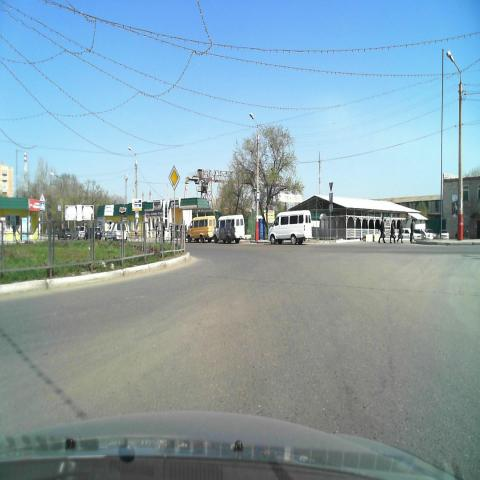2_1: (168, 163, 180, 191)
5_16: (256, 190, 261, 203)
